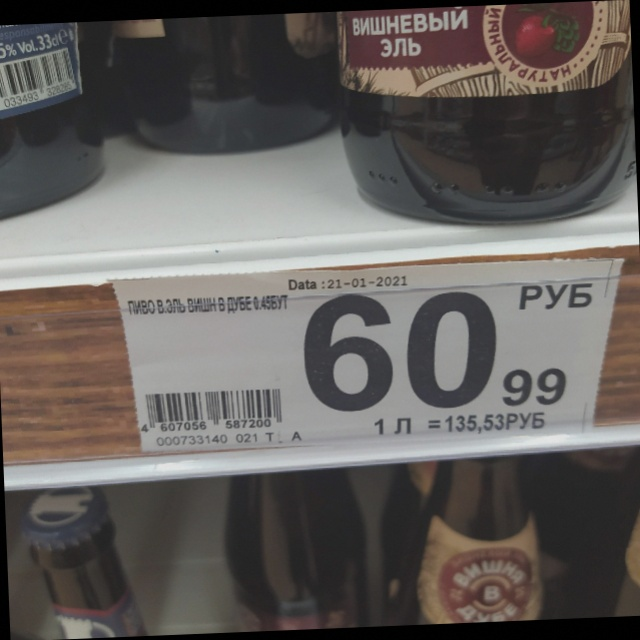barcode: (139, 387, 288, 435)
name: (126, 293, 292, 320)
price: (303, 295, 569, 410)
price_tag: (109, 257, 623, 450)
